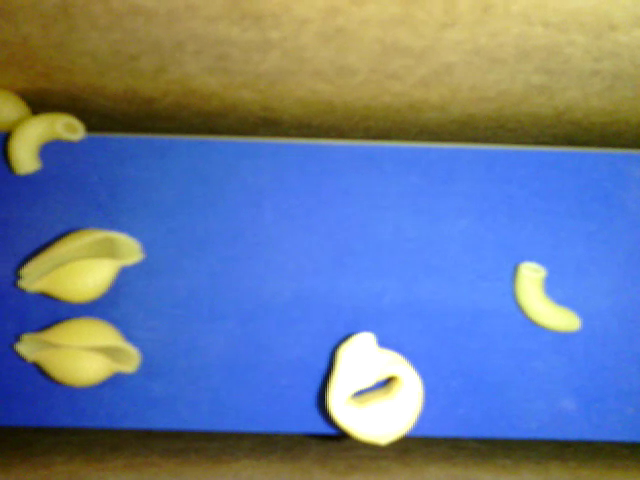elbow: (7, 112, 87, 175), (513, 261, 582, 333)
shell: (14, 228, 146, 303), (13, 317, 138, 387)
tortellini: (325, 330, 424, 447)
